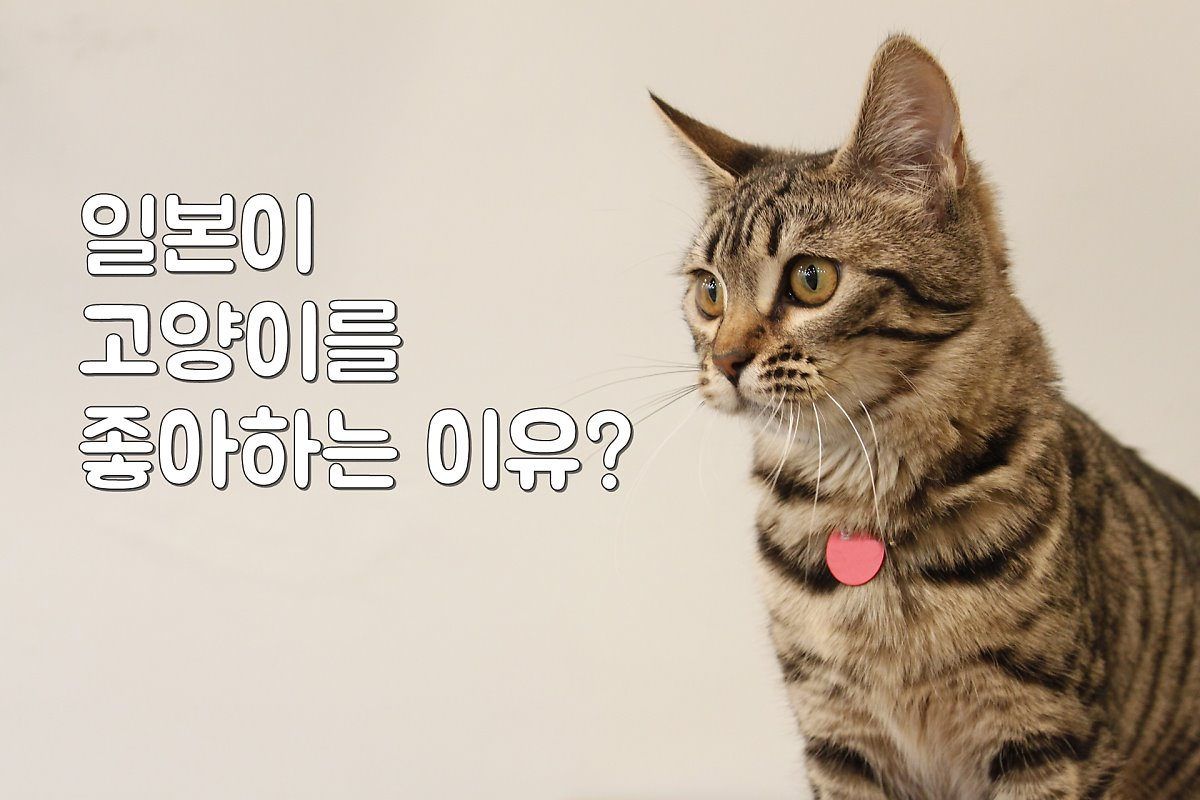cat: (649, 26, 1200, 786)
cat-face: (628, 21, 1015, 441)
